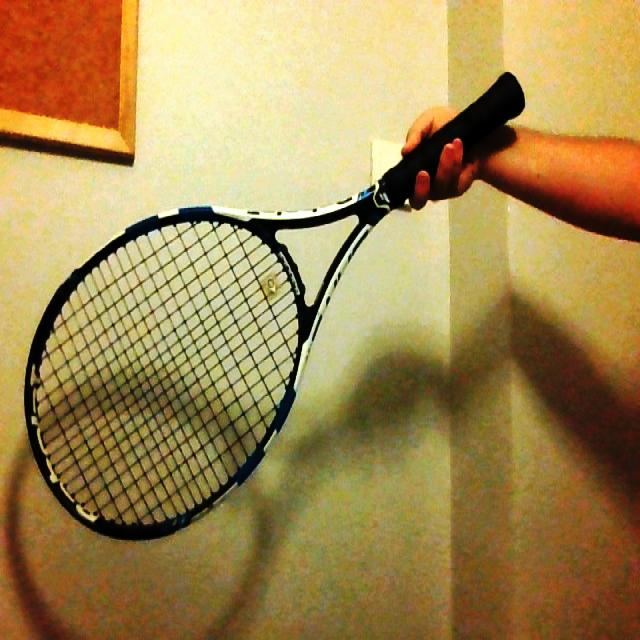TennisRacket: (2, 60, 526, 543)
